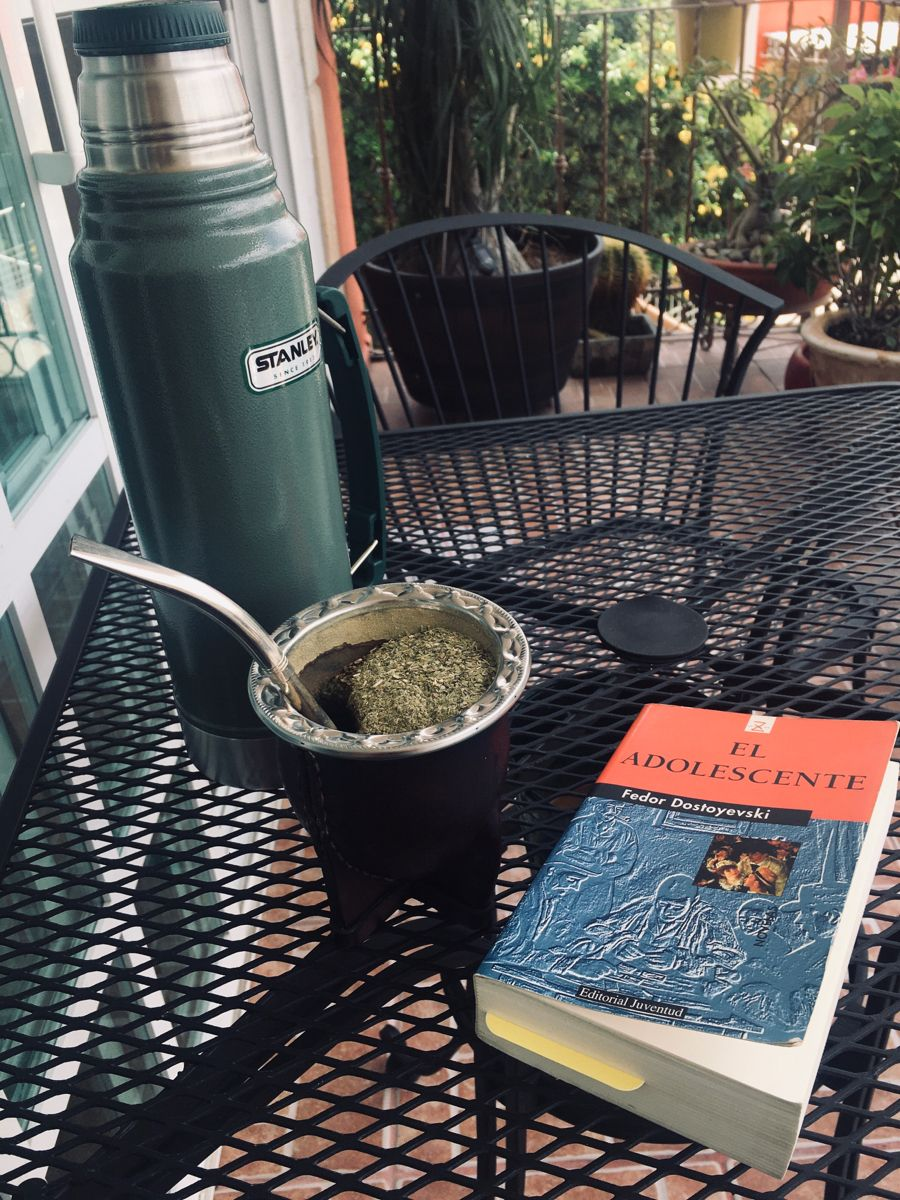mate: (242, 582, 530, 935)
